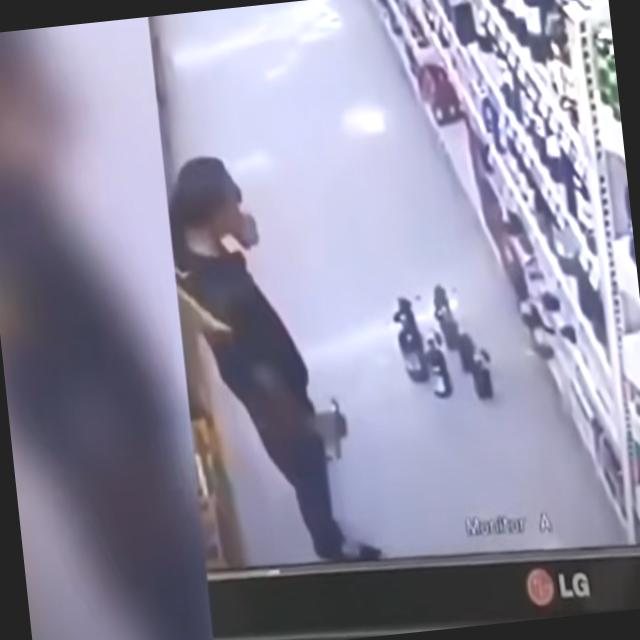person: (165, 141, 382, 576)
